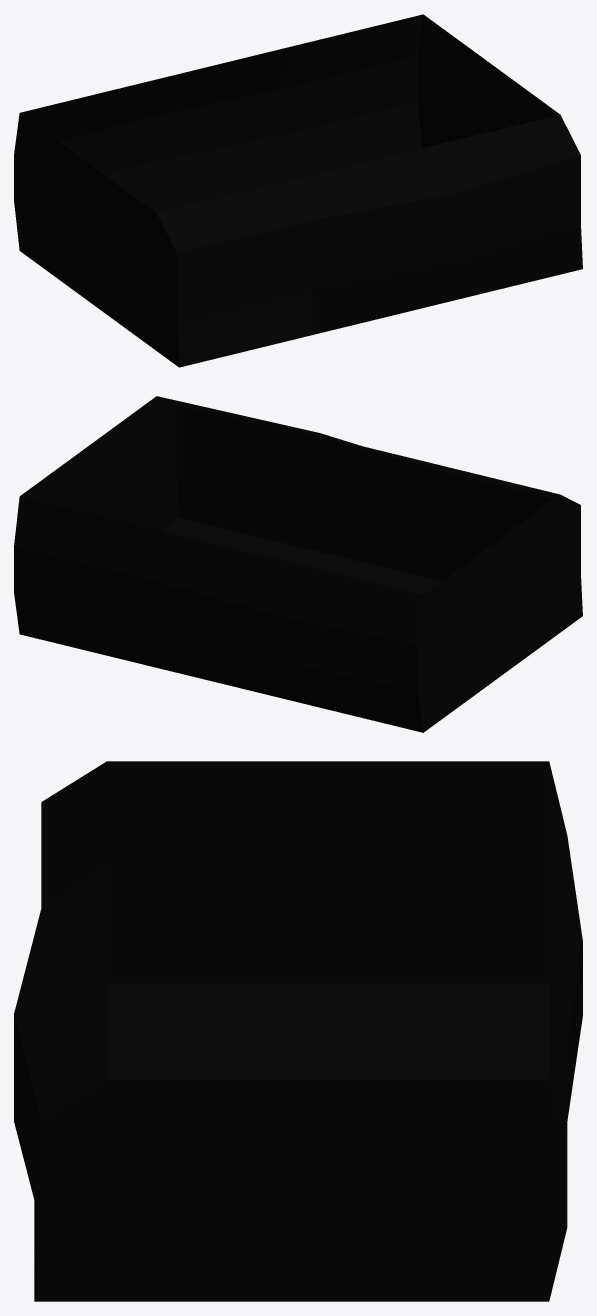
The model's file is Mask.glb.
3 renders of one model, top to bottom at view 1: azimuth 30°, elevation 25°; view 2: azimuth 150°, elevation 25°; view 3: azimuth 270°, elevation 25°, orthographic. The views are drawn at different scales.
Visible parts, largest first — view 1: Mask; view 2: Mask; view 3: Mask.
Part boxes in pixels (bbox=[...]): Mask: bbox=[14, 14, 582, 367]; Mask: bbox=[14, 396, 582, 732]; Mask: bbox=[14, 761, 582, 1301].
Bounding box in the file's own units: 11.7 × 3.82 × 8.86.
1 material, 1 textured.
